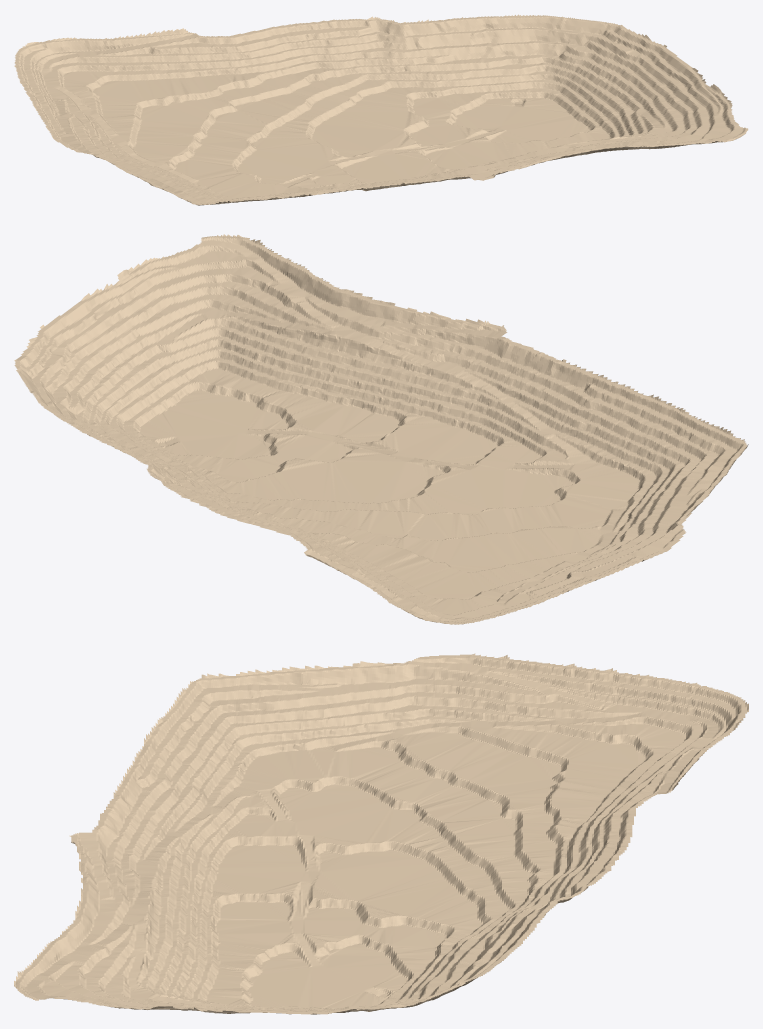
Rendered from pit_04.glb.
The picture shows the model from 3 angles, top to bottom: view 1: azimuth 30°, elevation 25°; view 2: azimuth 150°, elevation 25°; view 3: azimuth 270°, elevation 25°; orthographic projection. The views are drawn at different scales.
Bounding box in the file's own units: 2230 × 187 × 1920.
